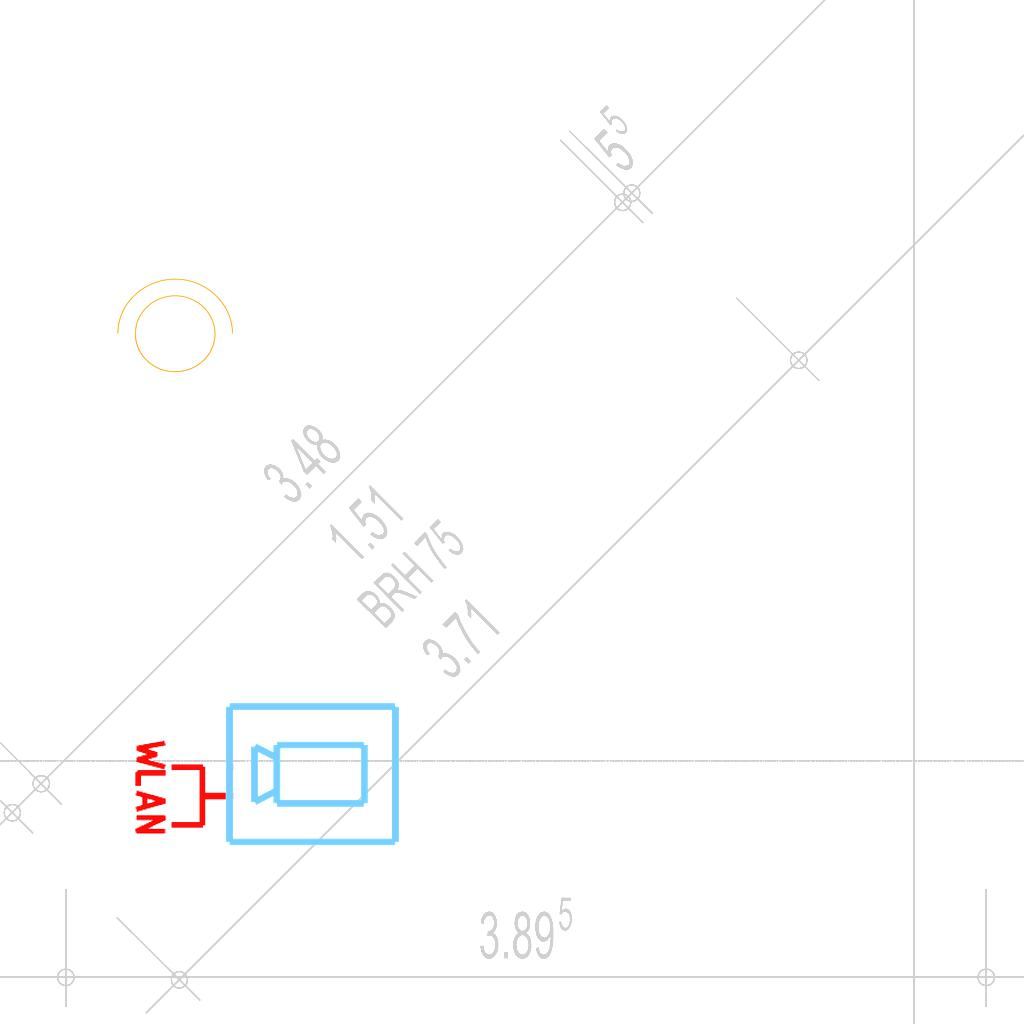KFO_Kamera_mit_Festobjektiv: (222, 696, 404, 850)
Scheinwerfer_fuer_Alarmbeleuchtung: (106, 273, 238, 385)
WLAN: (133, 735, 238, 839)
